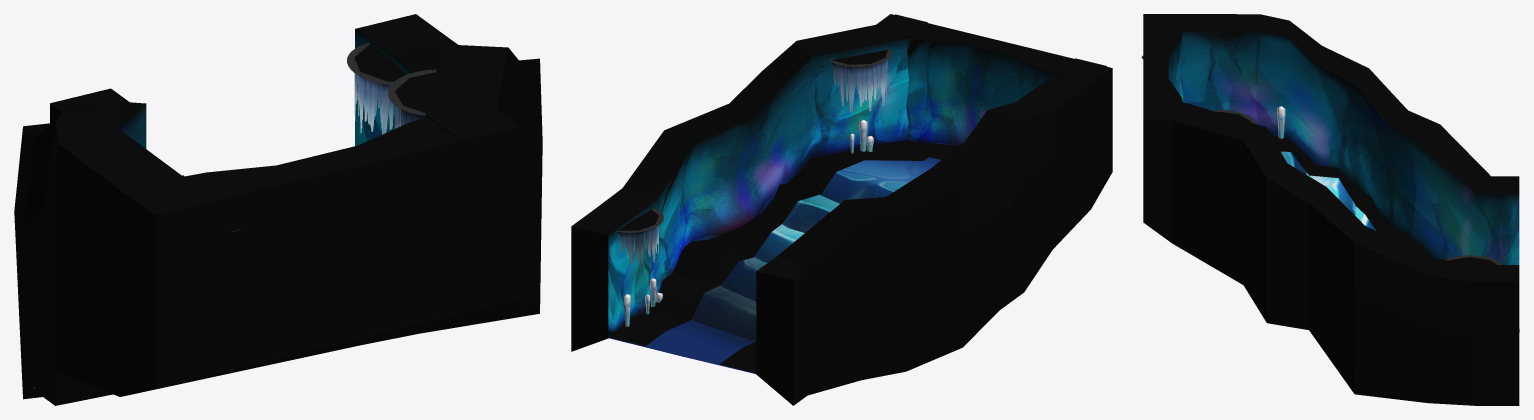
File: Dungeon_072_GoalStepD_003.fbx
3 views of the same model, side by side, from view 1: azimuth 30°, elevation 25°; view 2: azimuth 150°, elevation 25°; view 3: azimuth 270°, elevation 25° (orthographic). The views are drawn at different scales.
Parts seen in each view (by area): view 1: Dun_072_StepD_001_wall, Dun_072_Door_002, Dun_072_OB_Icicle; view 2: Dun_072_StepD_001_wall, Dun_072_Door_002, Dun_072_SteoD_001_ground, Dun_072_StepD_001_shadow, Dun_072_OB_Icicle, Dun_072_OB_Ice_crystals01; view 3: Dun_072_StepD_001_wall, Dun_072_Door_002, Dun_072_StepD_001_shadow, Dun_072_SteoD_001_ground, Dun_072_OB_Icicle.
Boxes of the visible parts, left/top/right/bottom form: Dun_072_StepD_001_wall: left=14, top=14, right=542, bottom=405; Dun_072_Door_002: left=131, top=103, right=512, bottom=372; Dun_072_OB_Icicle: left=347, top=43, right=436, bottom=134; Dun_072_StepD_001_wall: left=571, top=14, right=1112, bottom=405; Dun_072_Door_002: left=876, top=14, right=1106, bottom=146; Dun_072_SteoD_001_ground: left=609, top=157, right=986, bottom=373; Dun_072_StepD_001_shadow: left=609, top=140, right=947, bottom=373; Dun_072_OB_Icicle: left=617, top=49, right=891, bottom=267; Dun_072_OB_Ice_crystals01: left=624, top=120, right=873, bottom=326; Dun_072_StepD_001_wall: left=1143, top=14, right=1519, bottom=405; Dun_072_Door_002: left=1143, top=15, right=1185, bottom=116; Dun_072_StepD_001_shadow: left=1271, top=135, right=1432, bottom=257; Dun_072_SteoD_001_ground: left=1281, top=151, right=1519, bottom=331; Dun_072_OB_Icicle: left=1212, top=110, right=1501, bottom=264.
Size of what is drawn, in the model's own units: 7.09 by 4.45 by 6.77.
